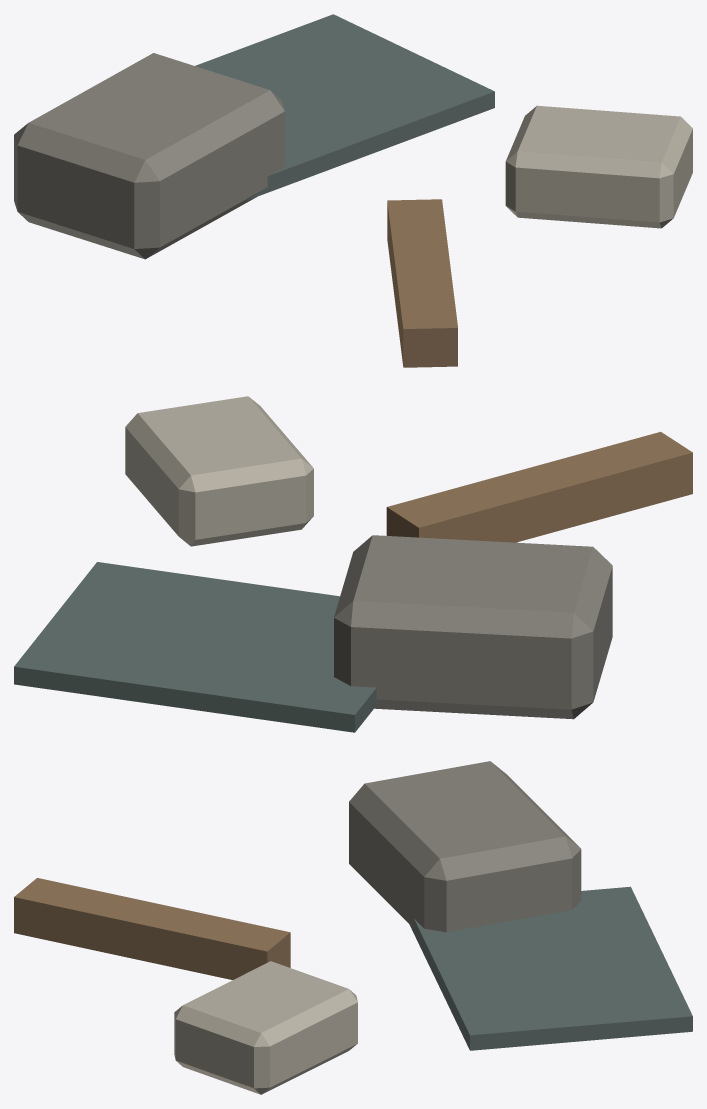
File: ENV_DebrisSmall.glb
3 renders of one model, top to bottom at view 1: azimuth 30°, elevation 25°; view 2: azimuth 150°, elevation 25°; view 3: azimuth 270°, elevation 25°, orthographic. The views are drawn at different scales.
Visible parts, largest first — view 1: Debris_Stone_A, Debris_Plate, Debris_Stone_B, Debris_Slat; view 2: Debris_Stone_A, Debris_Plate, Debris_Stone_B, Debris_Slat; view 3: Debris_Plate, Debris_Stone_A, Debris_Stone_B, Debris_Slat.
Boxes of the visible parts, x1=… form: Debris_Stone_A: x1=14, y1=53, x2=284, y2=259; Debris_Plate: x1=195, y1=14, x2=494, y2=200; Debris_Stone_B: x1=505, y1=105, x2=692, y2=228; Debris_Slat: x1=387, y1=199, x2=457, y2=367; Debris_Stone_A: x1=334, y1=535, x2=612, y2=719; Debris_Plate: x1=14, y1=562, x2=378, y2=732; Debris_Stone_B: x1=125, y1=396, x2=313, y2=546; Debris_Slat: x1=386, y1=431, x2=692, y2=542; Debris_Plate: x1=409, y1=886, x2=692, y2=1050; Debris_Stone_A: x1=349, y1=761, x2=581, y2=932; Debris_Stone_B: x1=174, y1=961, x2=357, y2=1094; Debris_Slat: x1=14, y1=878, x2=290, y2=979.
Bounding box in the file's own units: 1.05 × 0.18 × 1.19.
